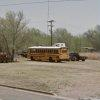Bus: (25, 43, 73, 63)
